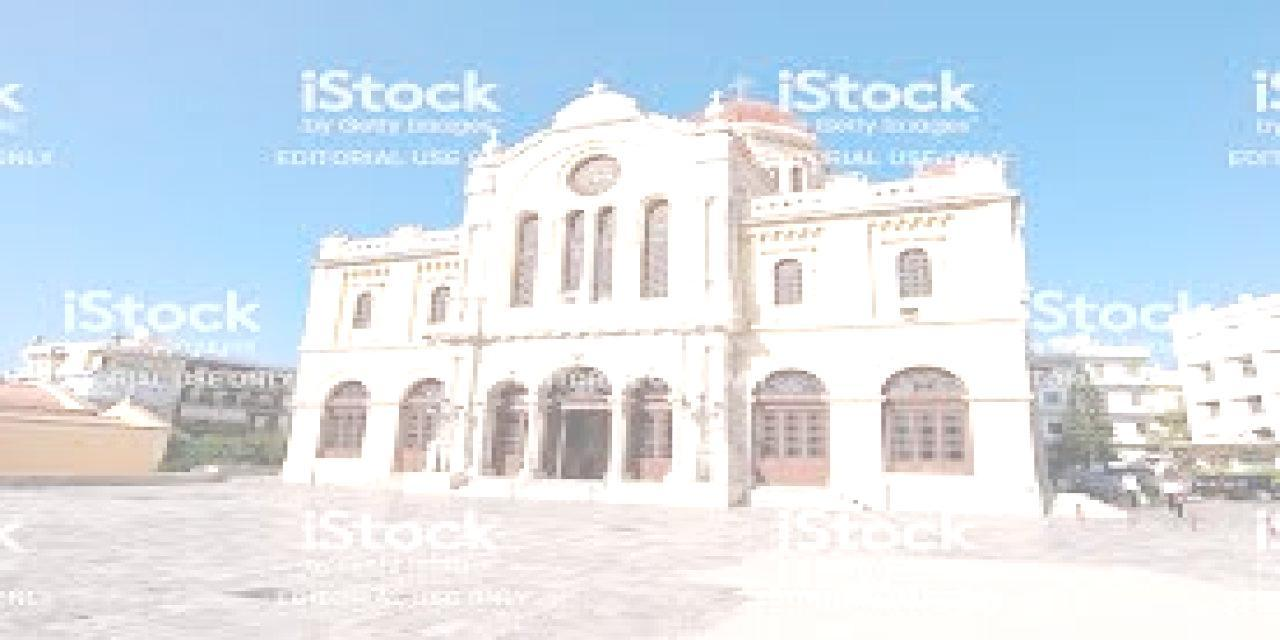Agios Minas: (275, 78, 1063, 516)
